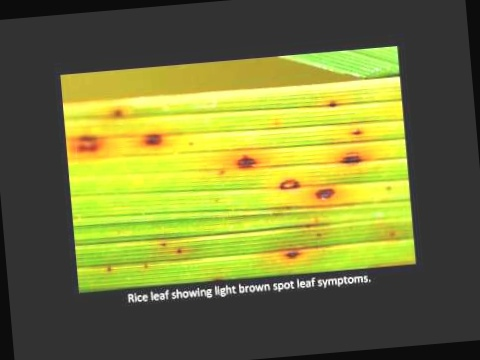Bacterial_Leaf_Blight: (221, 138, 270, 178), (66, 124, 116, 162), (130, 120, 178, 156), (273, 242, 319, 263), (304, 180, 344, 203), (342, 144, 372, 171), (275, 173, 308, 194), (321, 92, 346, 115), (106, 106, 133, 120), (346, 123, 367, 140)
